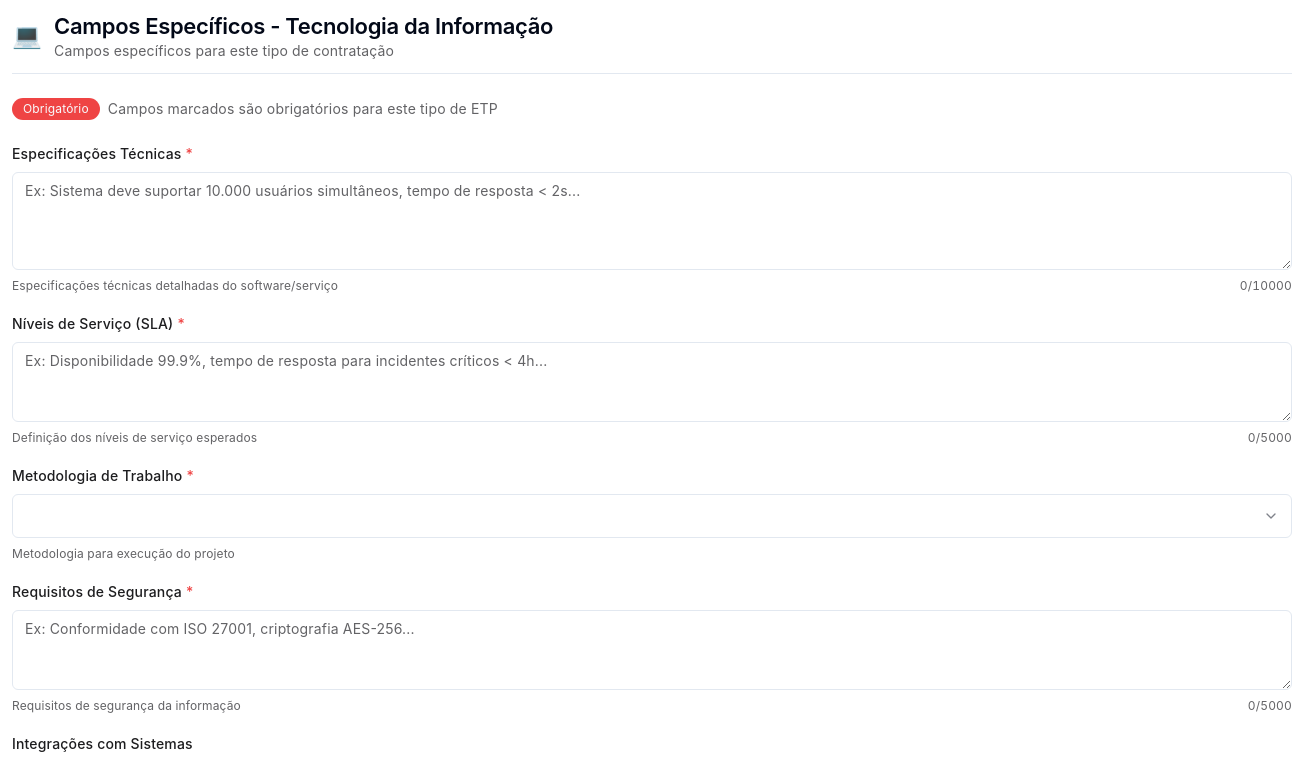
it: DynamicFieldsRenderer › TI template › should allow selecting methodology option
The image size is (1304, 762).
Click the dropdown.
click(1271, 516)  # box x1=12 y1=494 x2=1292 y2=538
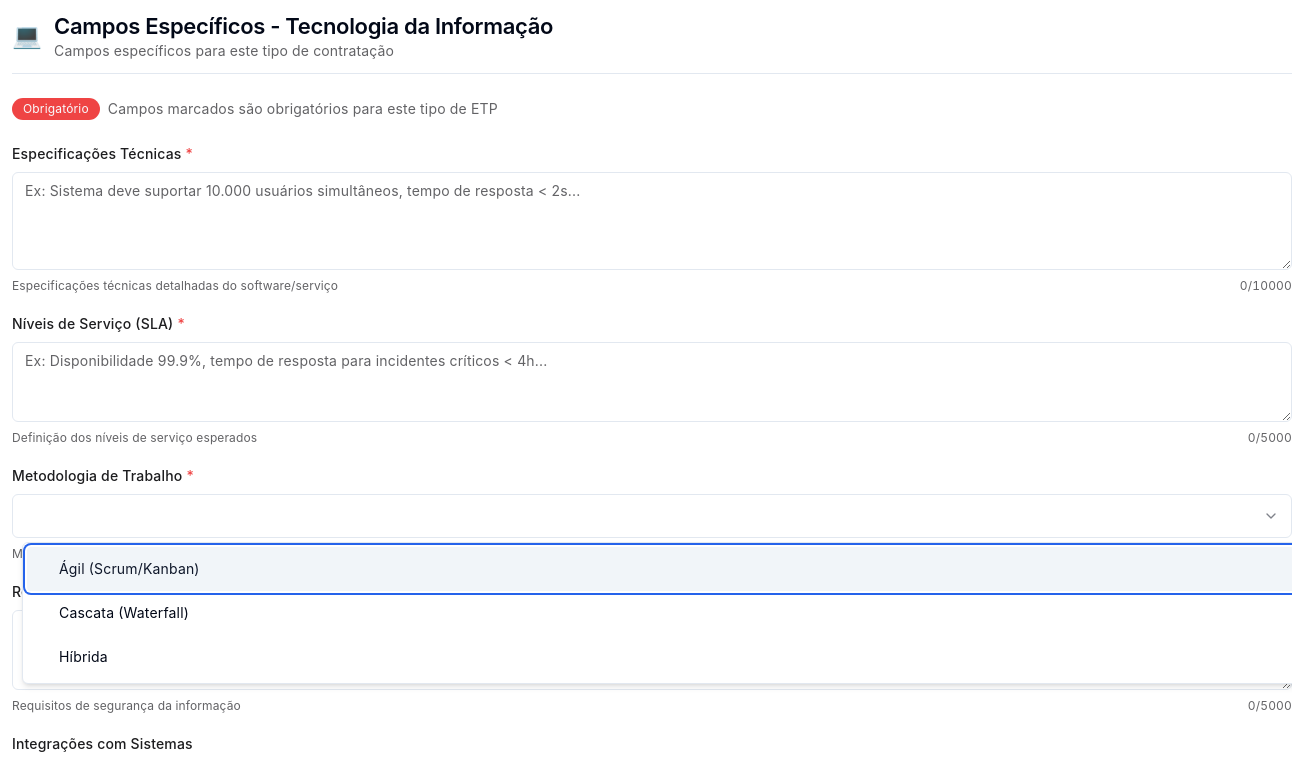
Now the text "Ágil (Scrum/Kanban)" is shown, box x1=59 y1=559 x2=200 y2=579
Now the text "Cascata (Waterfall)" is shown, box x1=59 y1=603 x2=189 y2=623
Now the text "Híbrida" is shown, box x1=59 y1=647 x2=108 y2=667
